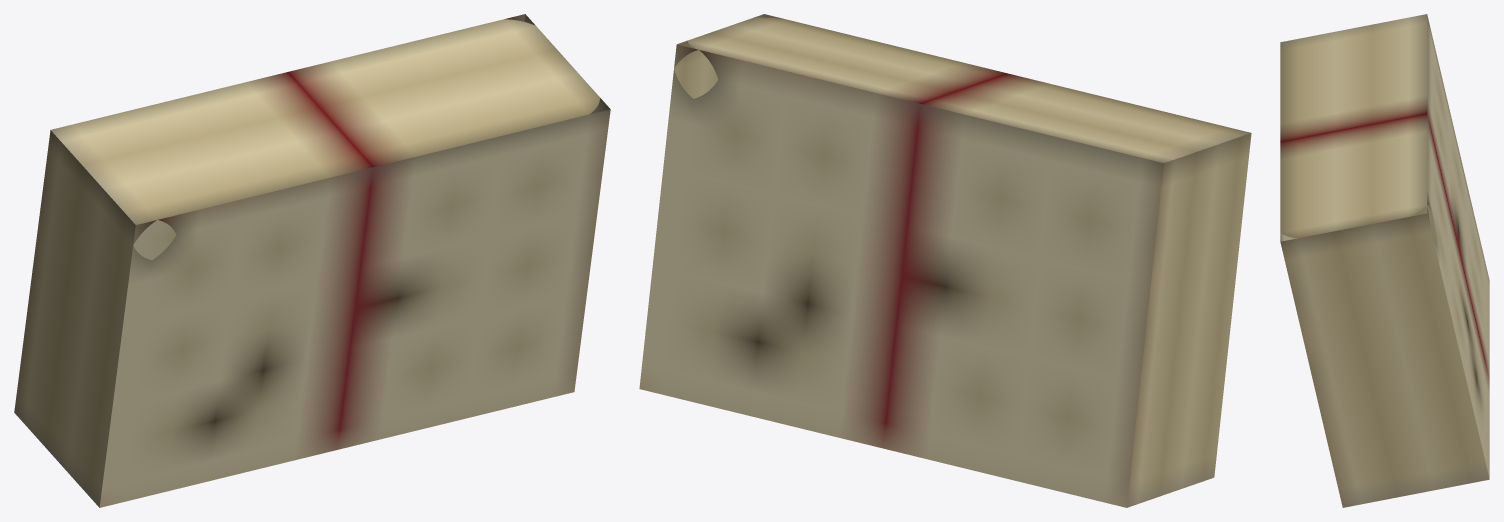
The model's file is era1_card_deck_4_double_sided.obj.
3 views of the same model, side by side, from view 1: azimuth 30°, elevation 25°; view 2: azimuth 150°, elevation 25°; view 3: azimuth 270°, elevation 25° (orthographic). The views are drawn at different scales.
Parts seen in each view (by area): view 1: era1_card_deck_4; view 2: era1_card_deck_4; view 3: era1_card_deck_4.
Boxes of the visible parts, x1,y1,x2,y2 form: era1_card_deck_4: (14,14,610,507); era1_card_deck_4: (639,14,1251,507); era1_card_deck_4: (1280,14,1489,507).
Bounding box in the file's own units: 0.6875 × 0.4734 × 0.3049.
